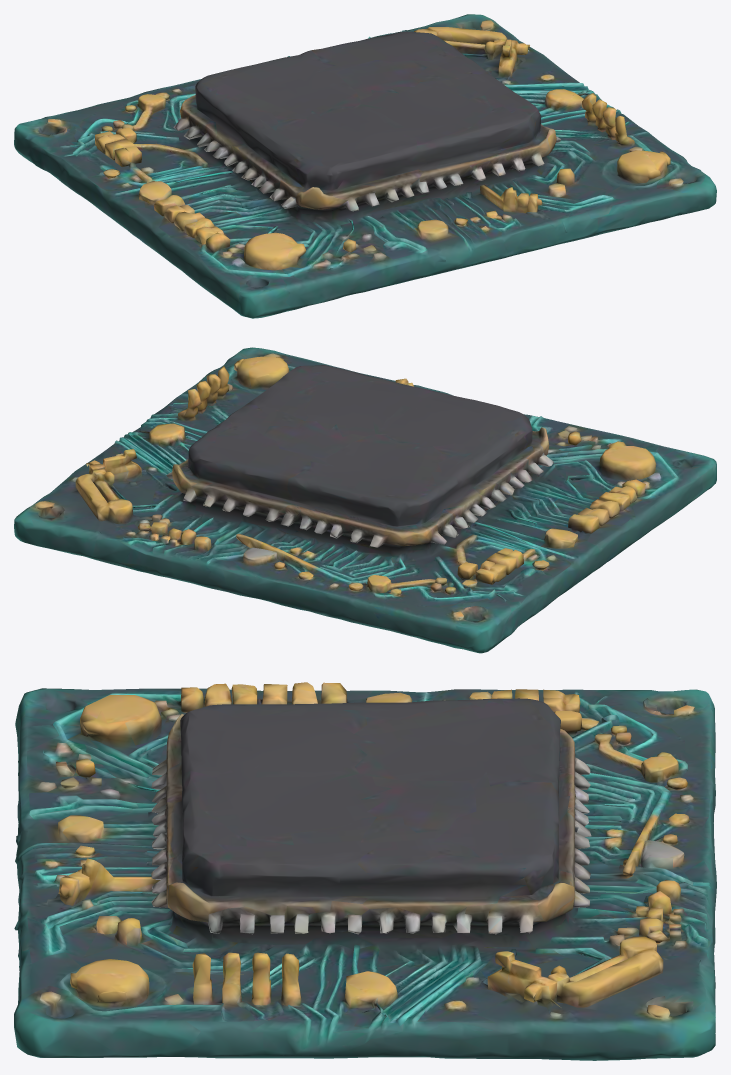
File: chip.glb
The picture shows the model from 3 angles, top to bottom: view 1: azimuth 30°, elevation 25°; view 2: azimuth 150°, elevation 25°; view 3: azimuth 270°, elevation 25°; orthographic projection. The views are drawn at different scales.
Parts seen in each view (by area): view 1: tripo_node_834df522-6d2c-4df3-b8b7-6026d47b85ac; view 2: tripo_node_834df522-6d2c-4df3-b8b7-6026d47b85ac; view 3: tripo_node_834df522-6d2c-4df3-b8b7-6026d47b85ac.
Part boxes in pixels (left/top/right/bottom): tripo_node_834df522-6d2c-4df3-b8b7-6026d47b85ac: left=14, top=14, right=716, bottom=318; tripo_node_834df522-6d2c-4df3-b8b7-6026d47b85ac: left=14, top=347, right=716, bottom=653; tripo_node_834df522-6d2c-4df3-b8b7-6026d47b85ac: left=14, top=682, right=716, bottom=1060.
Bounding box in the file's own units: 1 × 0.1644 × 0.8713.
1 material, 1 textured.
